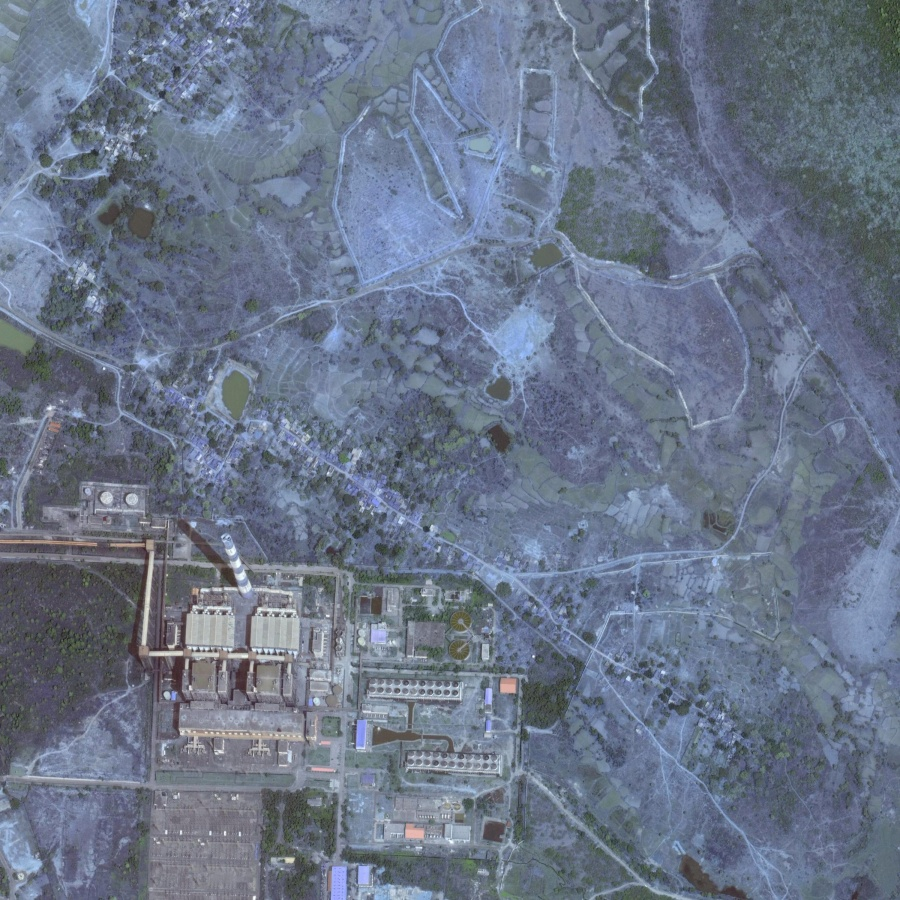PowerPlant: (152, 494, 306, 627)
